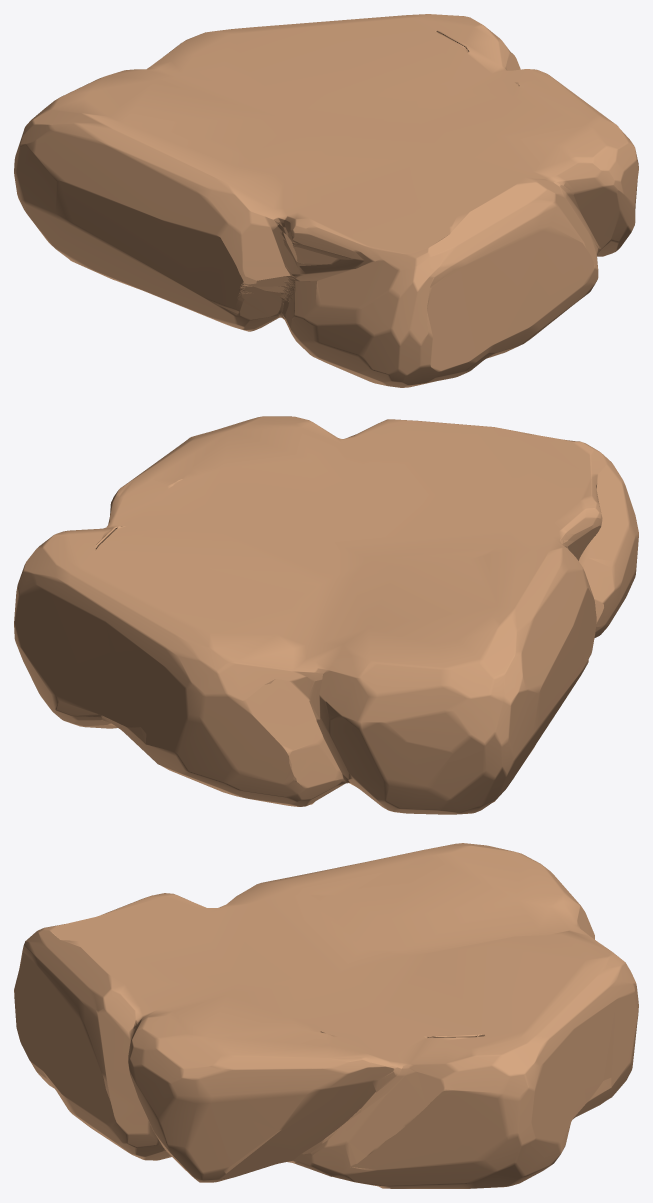
3 views of the same model, one above another, from view 1: azimuth 30°, elevation 25°; view 2: azimuth 150°, elevation 25°; view 3: azimuth 270°, elevation 25° (orthographic). The views are drawn at different scales.
Visible parts, largest first — view 1: Mesh_106_LOD0; view 2: Mesh_106_LOD0; view 3: Mesh_106_LOD0.
Part boxes in pixels (x1,y1,x2,y2): Mesh_106_LOD0: (14, 14, 638, 387); Mesh_106_LOD0: (14, 416, 638, 814); Mesh_106_LOD0: (14, 843, 638, 1188).
Size of what is drawn, in the model's own units: 1311 by 443 by 1530.
